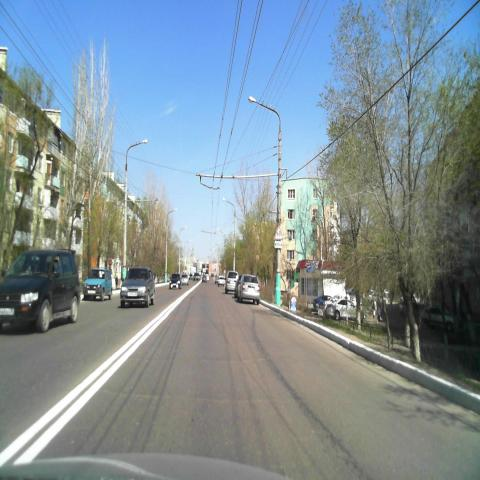1_23: (274, 226, 284, 240)
8_2_1: (274, 240, 283, 248)
